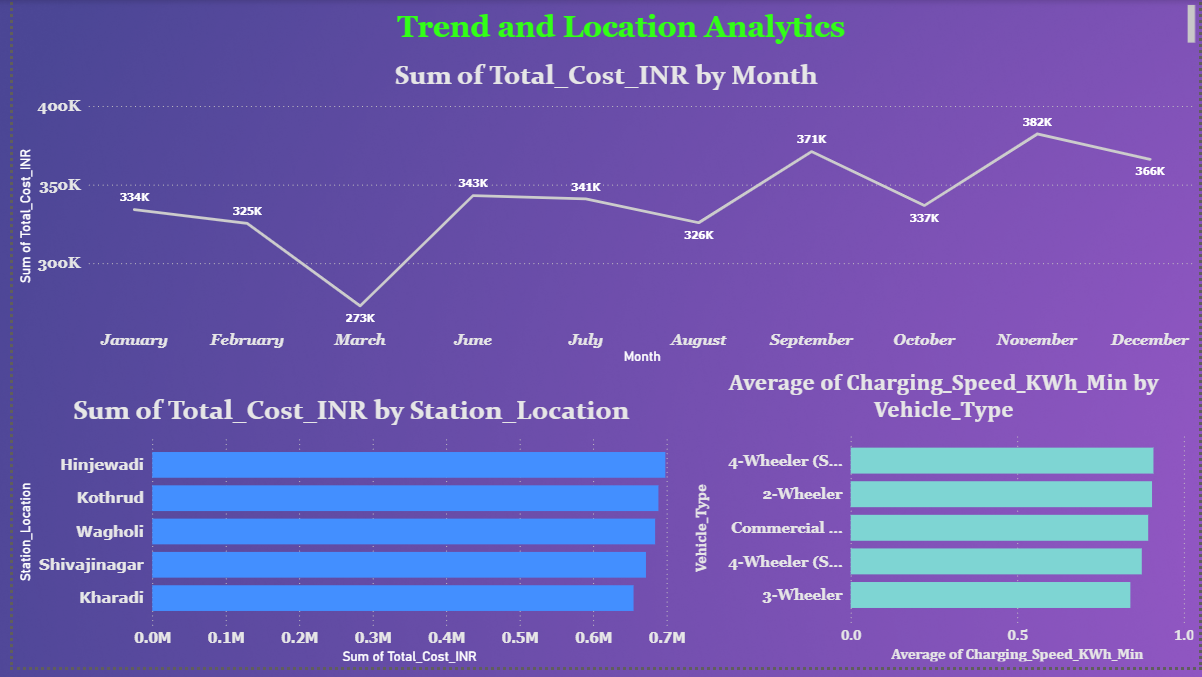

What the dashboard file says about the page in this screenshot:
{"tool":"powerbi","page":{"name":"Page 2","canvas":[1280,720],"ordinal":1},"visuals":[{"type":"lineChart","fields":{"Category":["Sheet1.Start_Time.Variation.Date Hierarchy.Year","Sheet1.Start_Time.Variation.Date Hierarchy.Quarter","Sheet1.Start_Time.Variation.Date Hierarchy.Month","Sheet1.Start_Time.Variation.Date Hierarchy.Day"],"Y":["Sum(Sheet1.Total_Cost_INR)"]},"box":[0,63.1,1280.8,333.6],"z":0},{"type":"clusteredBarChart","fields":{"Category":["Sheet1.Station_Location"],"Y":["Sum(Sheet1.Total_Cost_INR)"]},"box":[0,424.2,730.3,296.3],"z":1000},{"type":"textbox","box":[0,0,1280.8,51.8],"z":2000},{"type":"clusteredBarChart","fields":{"Category":["Sheet1.Vehicle_Type"],"Y":["Avg(Sheet1.Charging_Speed_KWh_Min)"]},"box":[730.1,397.5,549.3,322.4],"z":3000}]}

Visuals, with their boxes in screenshot pixels (x1, y1, x2, y2), scaled from the page's 1280x720 canvas onto the 1202x677 screenshot:
lineChart - Sheet1.Start_Time.Variation.Date Hierarchy.Year x Sheet1.Start_Time.Variation.Date Hierarchy.Quarter: <bbox>0, 59, 1201, 373</bbox>
clusteredBarChart - Sheet1.Station_Location x Sum(Sheet1.Total_Cost_INR): <bbox>0, 399, 686, 676</bbox>
textbox: <bbox>0, 0, 1201, 49</bbox>
clusteredBarChart - Sheet1.Vehicle_Type x Avg(Sheet1.Charging_Speed_KWh_Min): <bbox>686, 374, 1201, 676</bbox>
